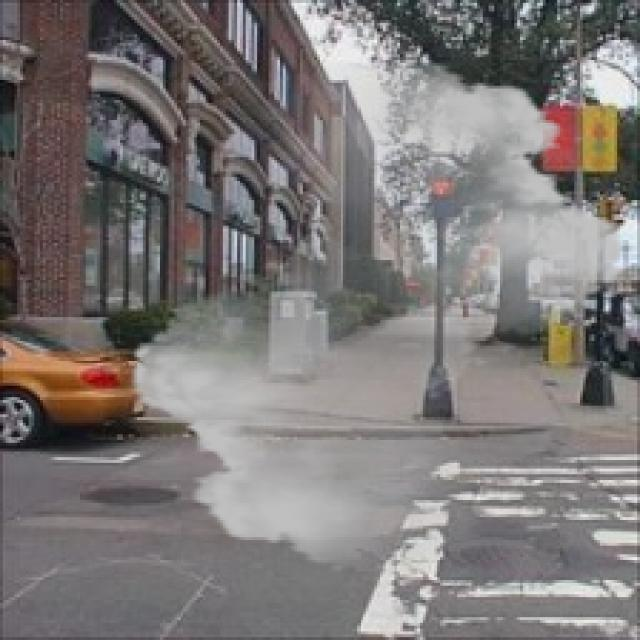smoke: (114, 54, 637, 574)
